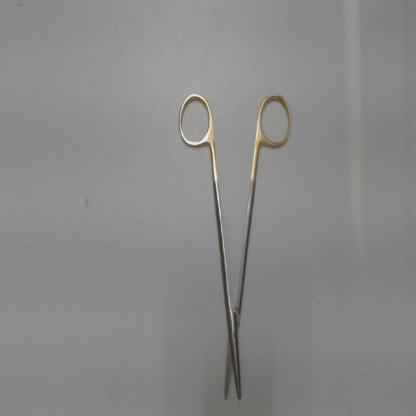7 Metzenbaum Scissors: (176, 86, 297, 407)
